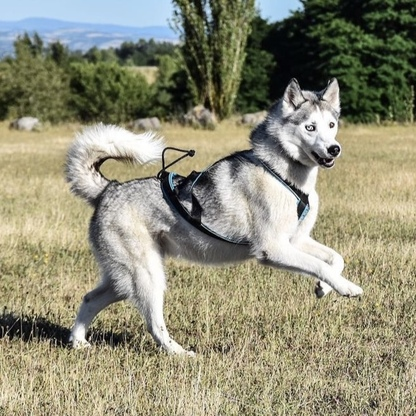husky: (58, 73, 371, 362)
